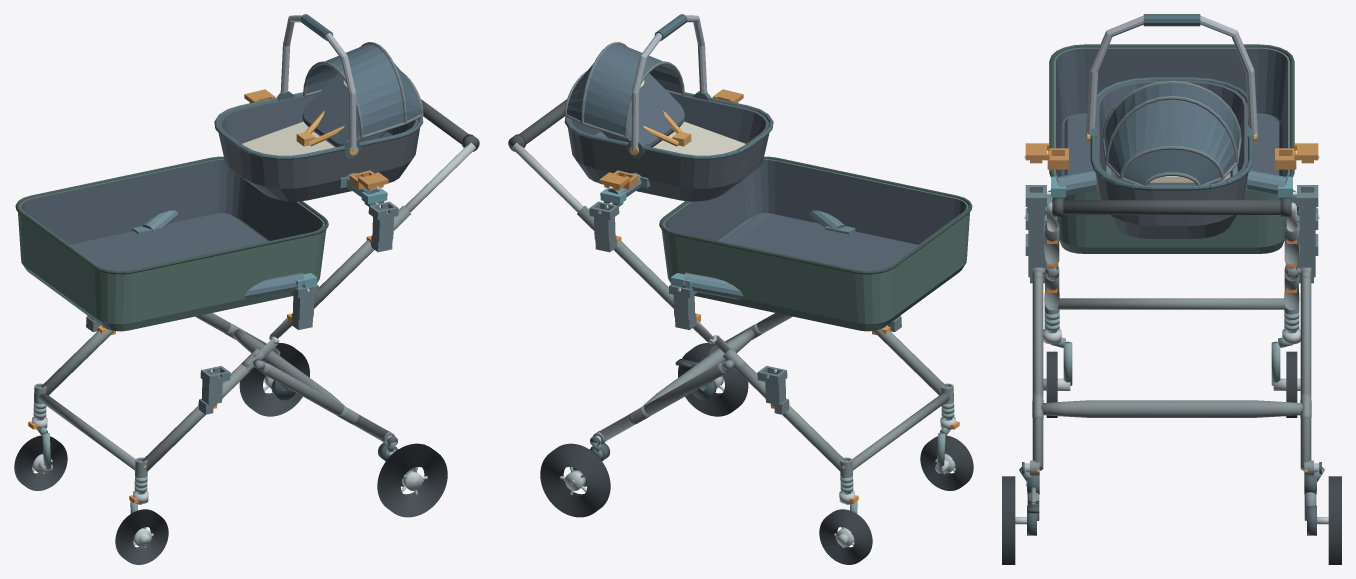
The model's file is D13_w650_state1_wheel_S.glb.
3 renders of one model, left to right at view 1: azimuth 30°, elevation 25°; view 2: azimuth 150°, elevation 25°; view 3: azimuth 270°, elevation 25°, orthographic. The views are drawn at different scales.
Parts seen in each view (by area): view 1: D13_Lower, D13_Upper, RL_tire.008, RR_tire.008, FL_tire.008, FR_tire.008, D13_Lower_Mount_M, V46_rear_leg_-1.009, main_lower_-1.009, front_fixed_round_tube.008, main_upper_-1.009, V46_rearbar.009 (+8 smaller); view 2: D13_Lower, D13_Upper, RR_tire.008, FR_tire.008, RL_tire.008, FL_tire.008, D13_Lower_Mount_M, V46_rear_leg_1.009, main_lower_1.009, front_fixed_round_tube.008, main_upper_1.009, V46_rearbar.009 (+8 smaller); view 3: D13_Upper, D13_Lower, V46_rearbar.009, round_handle.008, front_fixed_round_tube.008, D13_Upper_Mount_H, V46_rear_leg_1.009, V46_rear_leg_-1.009, RL_tire.008, RR_tire.008, Universal_Cabin_Receiver_H_1, Universal_Cabin_Receiver_H_-1 (+10 smaller).
Part boxes in pixels (<box>): D13_Lower: <box>15,156,328,331</box>; D13_Upper: <box>214,14,423,201</box>; RL_tire.008: <box>377,443,447,517</box>; RR_tire.008: <box>239,343,309,416</box>; FL_tire.008: <box>115,509,168,564</box>; FR_tire.008: <box>14,435,67,490</box>; D13_Lower_Mount_M: <box>132,210,317,299</box>; V46_rear_leg_-1.009: <box>261,363,388,441</box>; main_lower_-1.009: <box>142,363,252,471</box>; front_fixed_round_tube.008: <box>38,393,135,470</box>; main_upper_-1.009: <box>314,206,410,308</box>; V46_rearbar.009: <box>233,329,345,406</box>; D13_Lower: <box>659,156,972,331</box>; D13_Upper: <box>564,14,773,201</box>; RR_tire.008: <box>540,443,610,517</box>; FR_tire.008: <box>819,509,872,564</box>; RL_tire.008: <box>678,343,748,416</box>; FL_tire.008: <box>920,435,973,490</box>; D13_Lower_Mount_M: <box>670,210,855,299</box>; V46_rear_leg_1.009: <box>599,363,726,441</box>; main_lower_1.009: <box>735,363,845,471</box>; front_fixed_round_tube.008: <box>852,393,949,470</box>; main_upper_1.009: <box>577,206,673,308</box>; V46_rearbar.009: <box>642,329,754,406</box>; D13_Upper: <box>1086,14,1257,238</box>; D13_Lower: <box>1049,44,1294,253</box>; V46_rearbar.009: <box>1041,400,1302,417</box>; round_handle.008: <box>1052,200,1291,214</box>; front_fixed_round_tube.008: <box>1057,298,1286,309</box>; D13_Upper_Mount_H: <box>1047,165,1296,199</box>; V46_rear_leg_1.009: <box>1300,276,1311,470</box>; V46_rear_leg_-1.009: <box>1032,276,1043,470</box>; RL_tire.008: <box>1002,476,1015,564</box>; RR_tire.008: <box>1328,476,1341,564</box>; Universal_Cabin_Receiver_H_1: <box>1297,185,1318,244</box>; Universal_Cabin_Receiver_H_-1: <box>1025,185,1046,244</box>.
Bounding box in the file's own units: 1.15 × 1.32 × 0.766.
